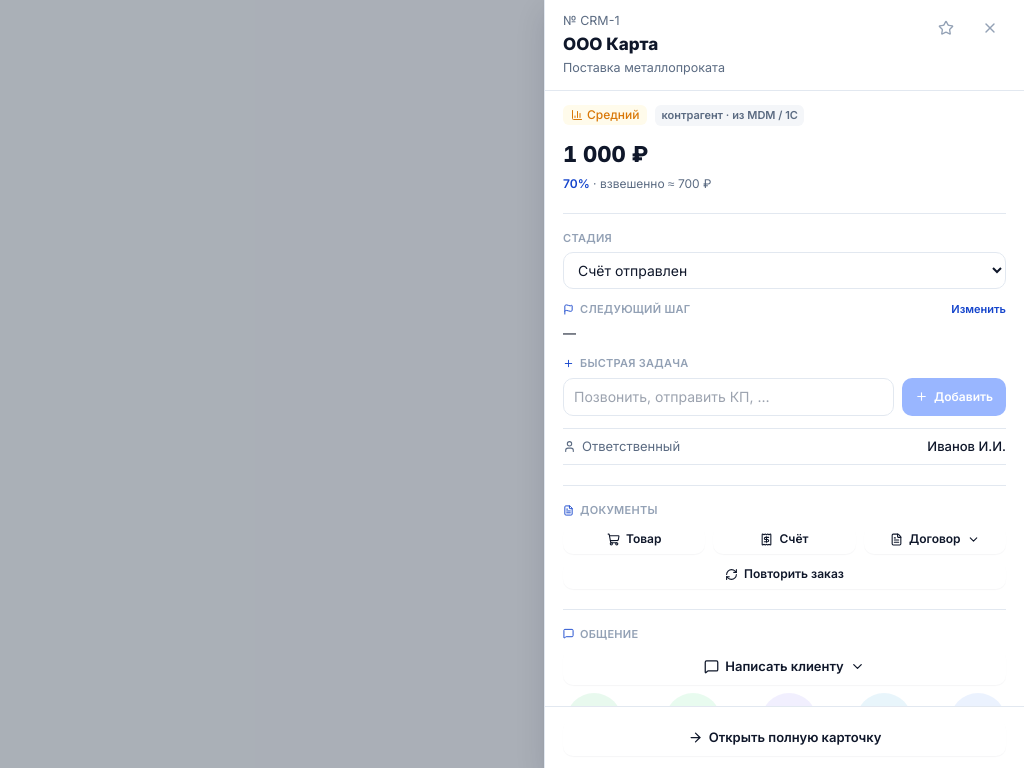
DealDrawerPreview — слайс 7: варианты договора › пустой список шаблонов → «Шаблонов нет»
The image size is (1024, 768).
Click the button "Договор" at (935, 539), box 864,524 -> 1006,554
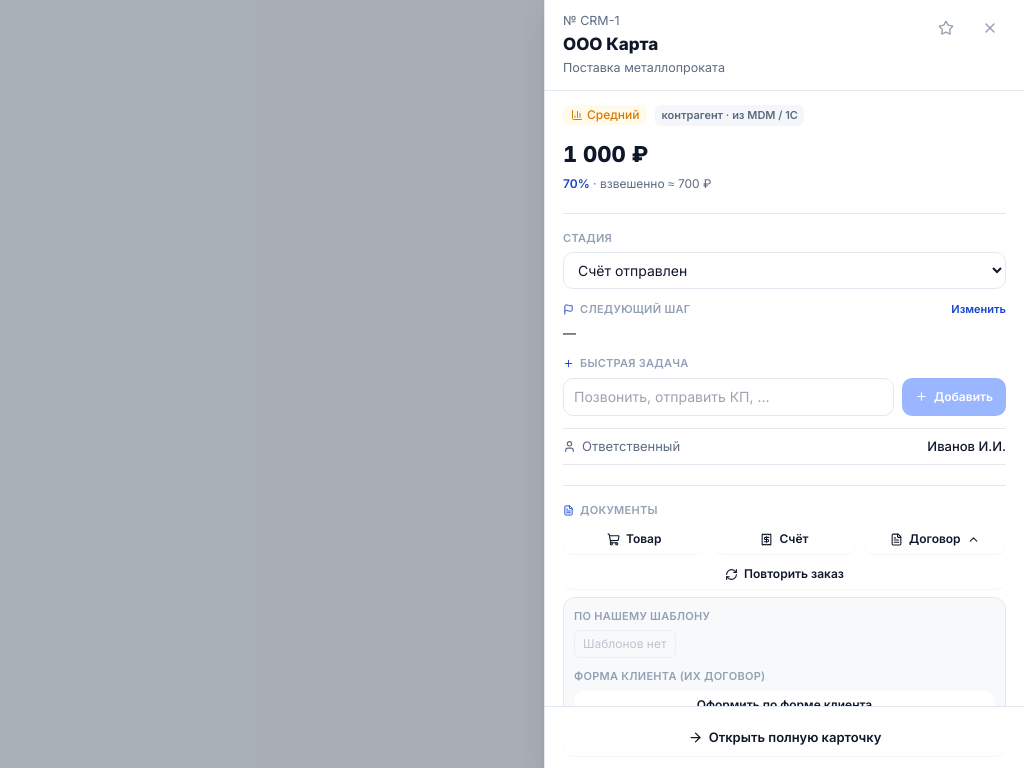
Expected: the text "Шаблонов нет" is shown, 574,630 -> 676,658
